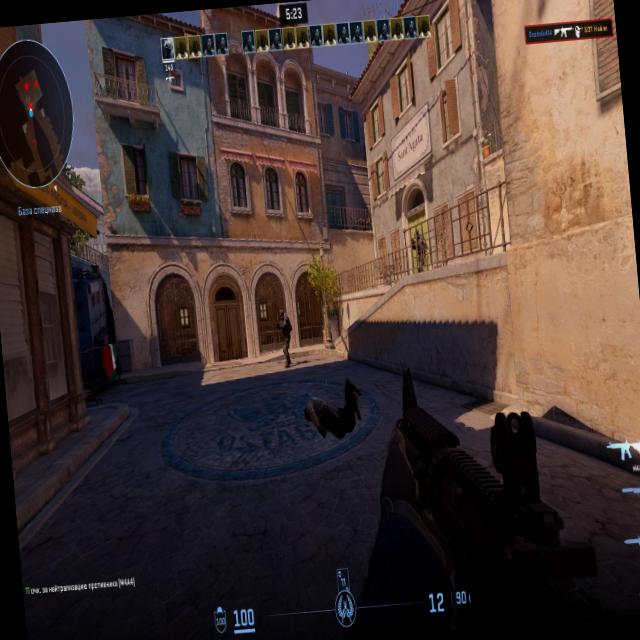CT: (276, 311, 294, 358)
CT_heat: (280, 312, 286, 322)
